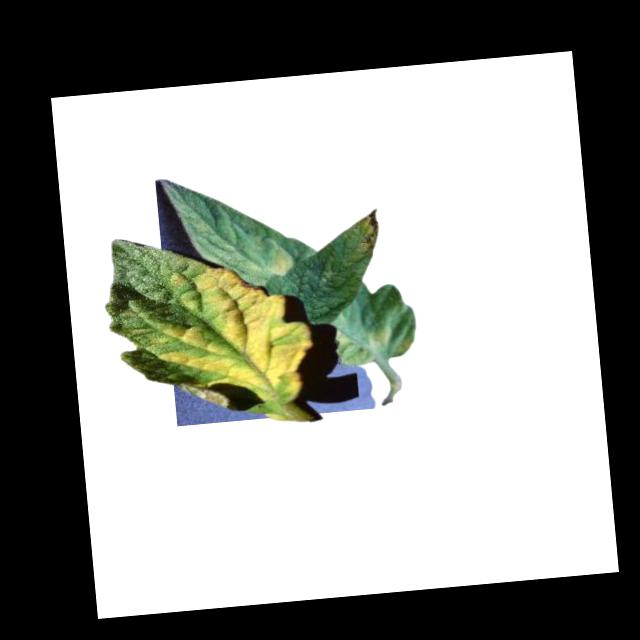Leaf_Mold: (118, 260, 317, 417), (344, 208, 382, 262), (244, 247, 294, 278)
